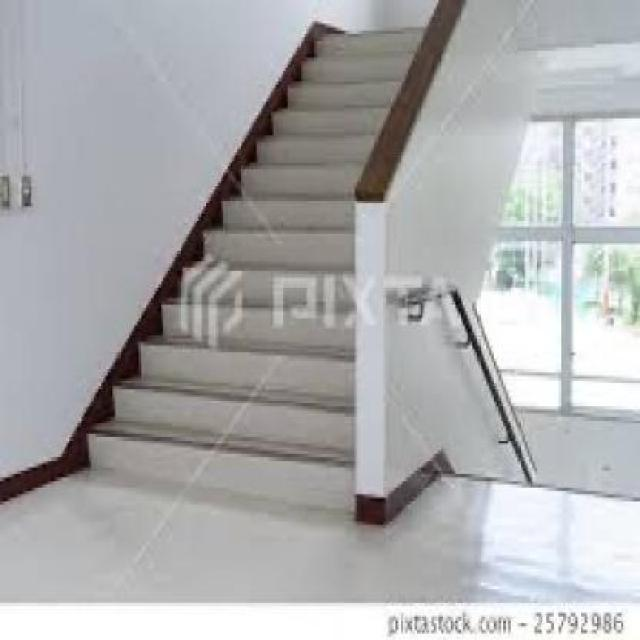stair: (77, 198, 346, 497)
